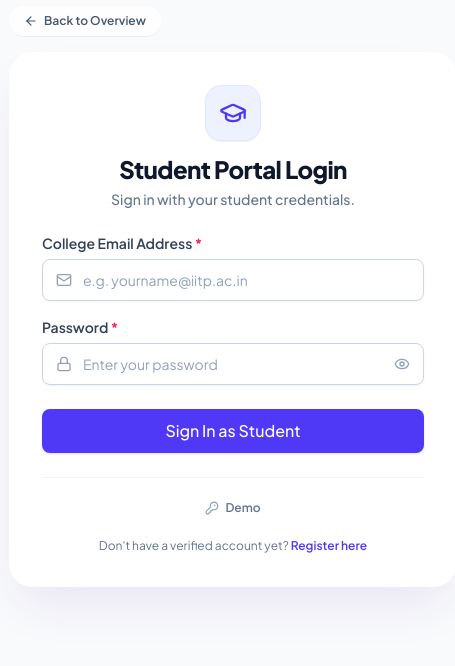
StudentLoginPage › validates empty inputs on submit
Click the button "Sign In as Student" at point(233, 431), box [42,409,424,453]
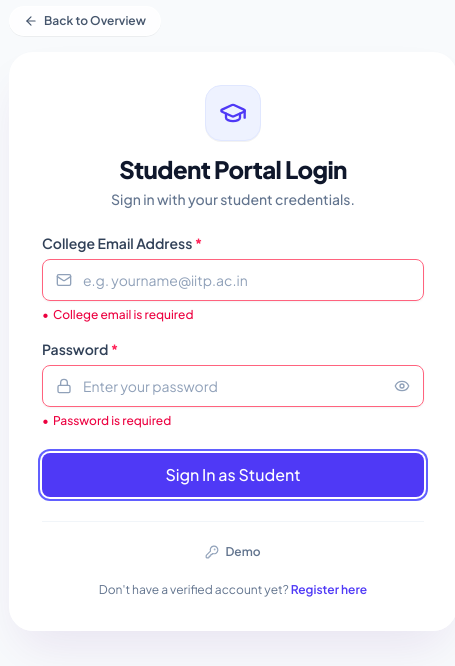
Expected: the text "• College email is required" is shown, [42,307,194,322]
Expected: the text "• Password is required" is shown, [42,413,171,428]
